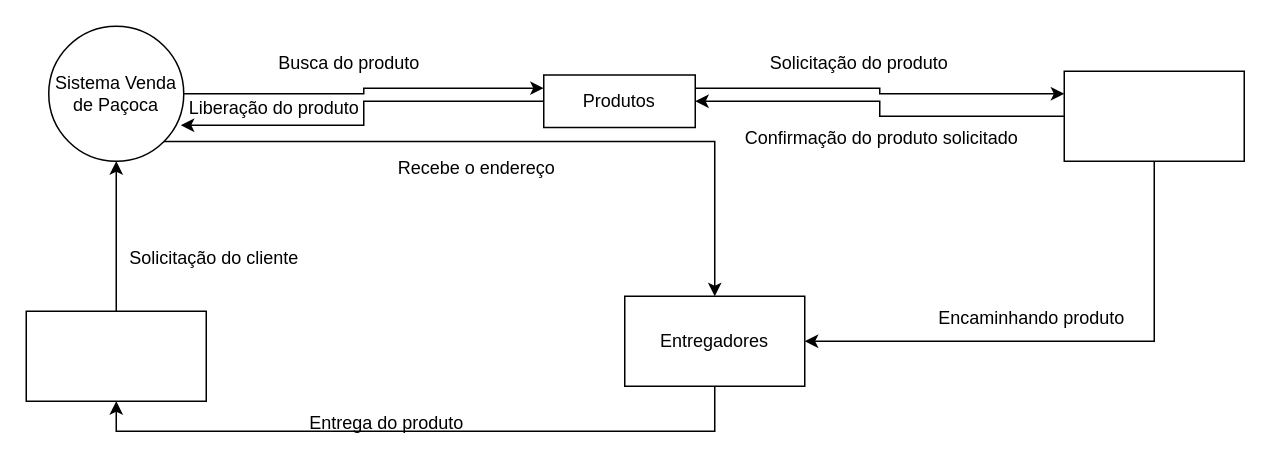
Image size: 1271x473. Some labels were removed from this diagram. Here are the shapes that lost their labels. From the top down, the centre of each, then its label:
point 1153,115: Fornecedores
point 115,355: Clientes
